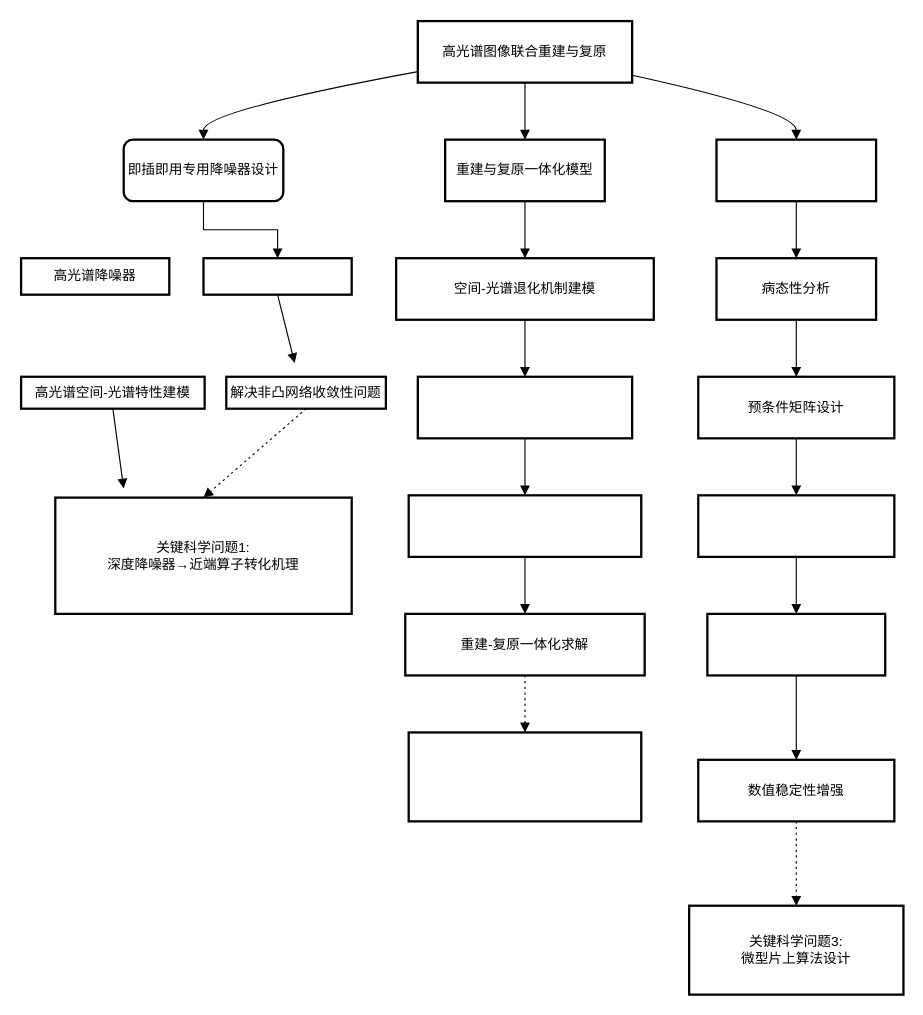
Some shapes in this 923 by 1015 pixel diagram are drawn without their labels. The shapes that lost their labels are listed below. From the top down, each one's centre as x and y in pixels, then its label:
At pixel 796 170: "微型片上计算光谱仪".
At pixel 277 275: "近端算子理论框架".
At pixel 524 407: "变量分裂技术实现".
At pixel 524 525: "深度近端降噪器集成".
At pixel 796 525: "自适应步长策略".
At pixel 796 644: "计算效率优化".
At pixel 524 776: "关键科学问题2: 多先验融合模型构建".
